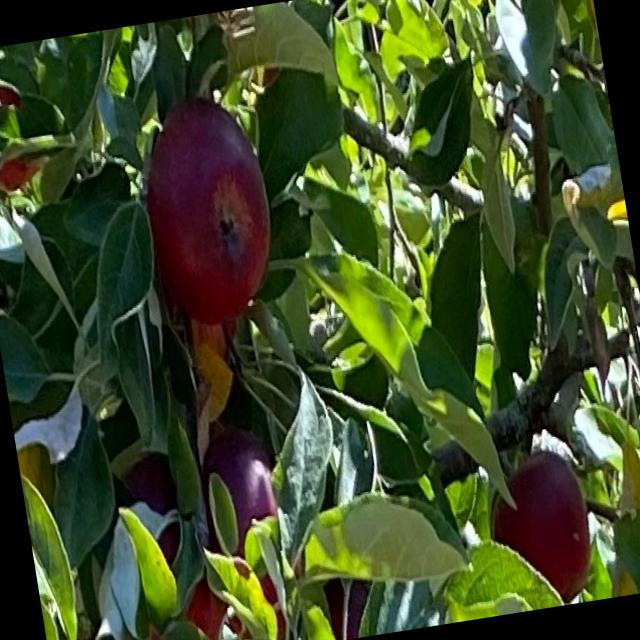Apples: (132, 96, 284, 324), (480, 448, 598, 612), (194, 422, 288, 562), (174, 555, 290, 639), (121, 446, 191, 574), (0, 83, 48, 194), (319, 570, 374, 639)
